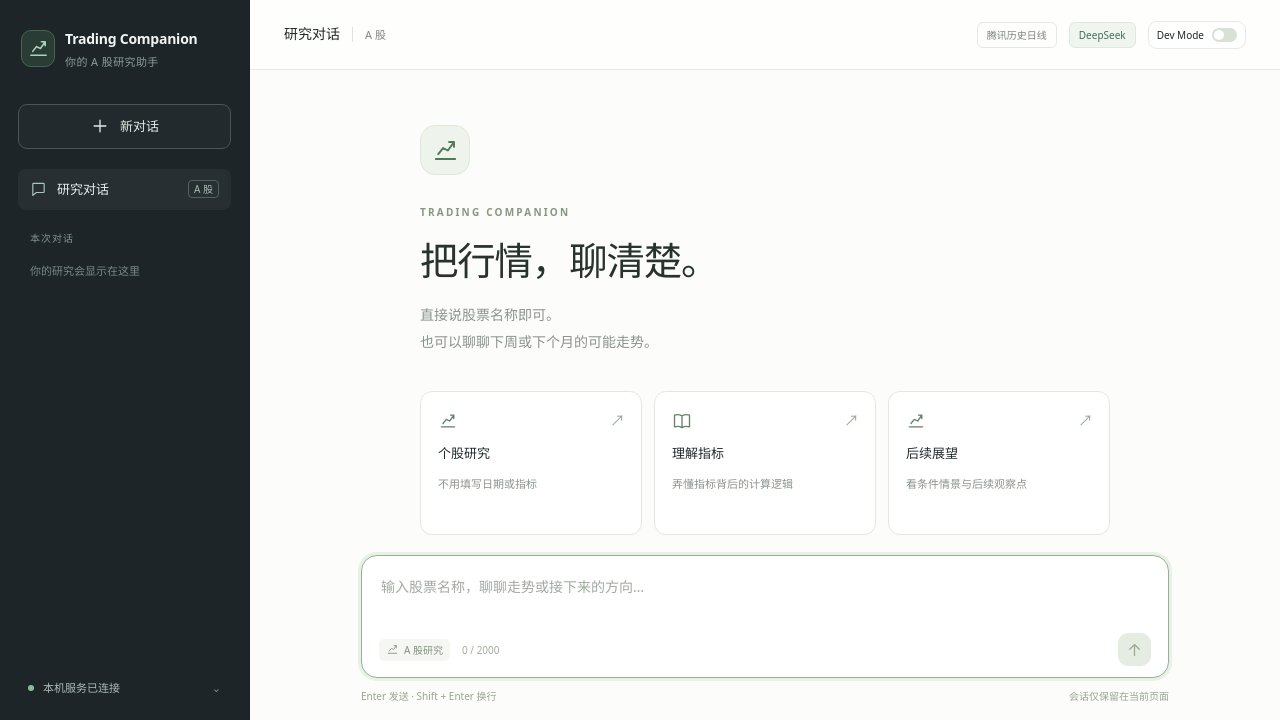
Test: development mode control › disables switching while research is running or the original response remains uncertain
Step 1. Type "分析平安银行" into the text box named "研究问题" → (765,599), box [379,572,1151,626]
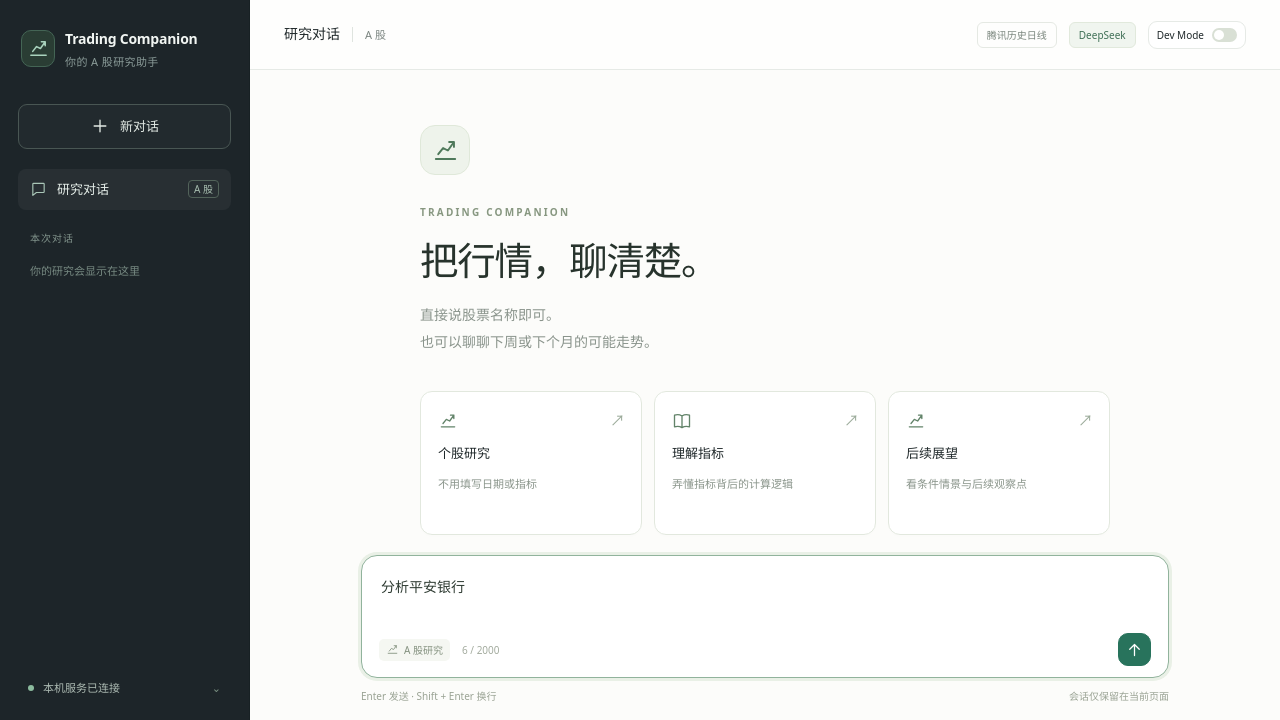
Step 2. Click the button named "发送问题" → (1134,650), box [1118,633,1151,666]
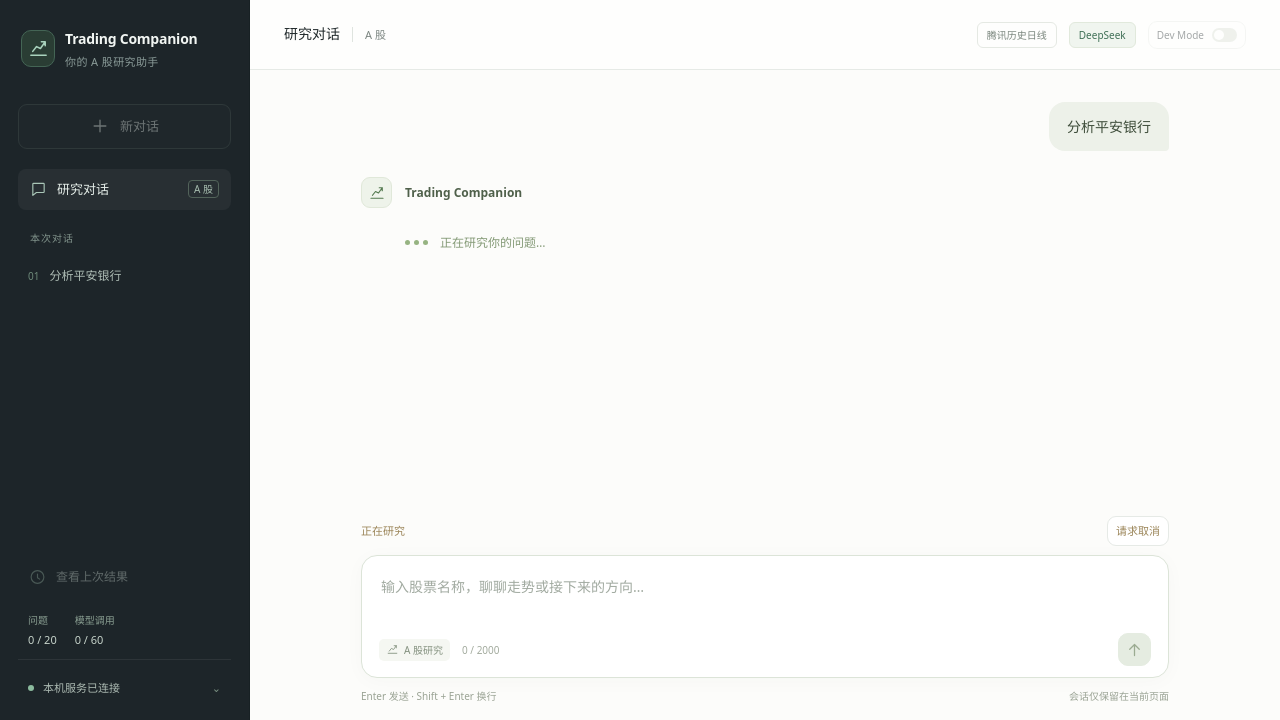
Now the switch labelled "Dev Mode" is disabled
Step 3. Click the switch labelled "Dev Mode" → (1197,34), box [1148,20,1246,48]
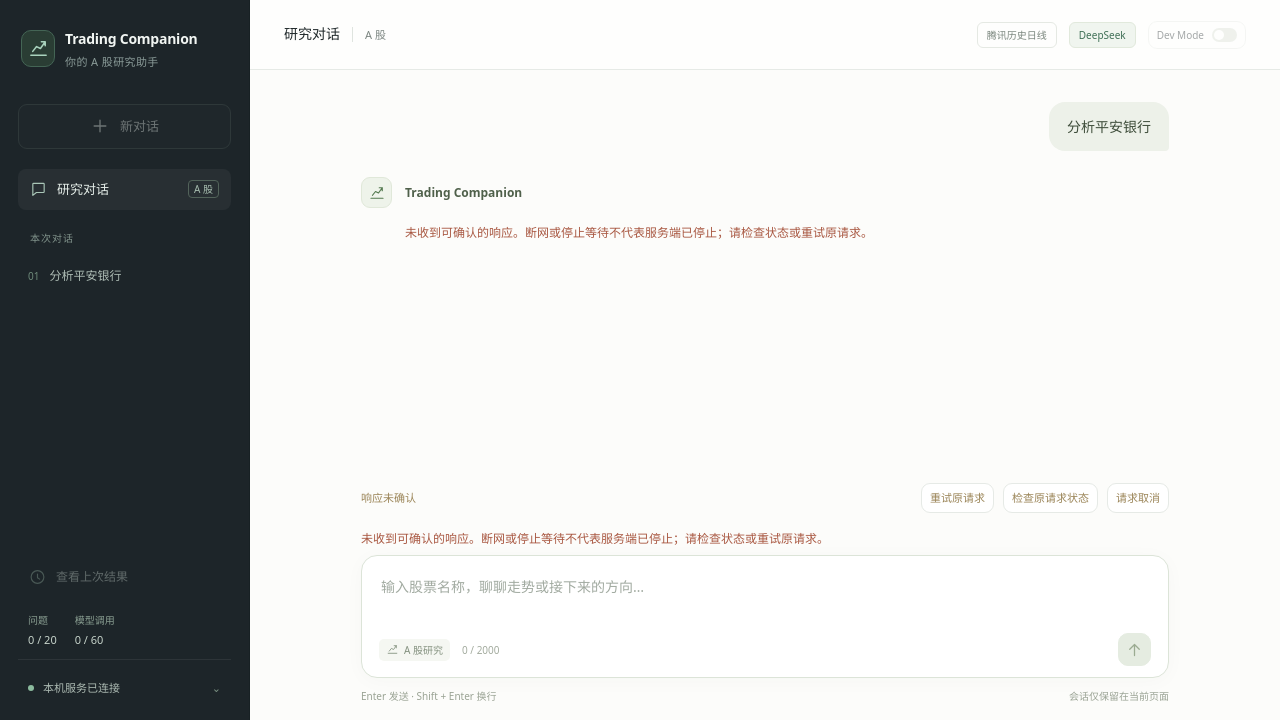
Now the switch labelled "Dev Mode" is disabled, box [1148,20,1246,48]
Now the button "重试原请求" is shown, box [921,483,994,513]
